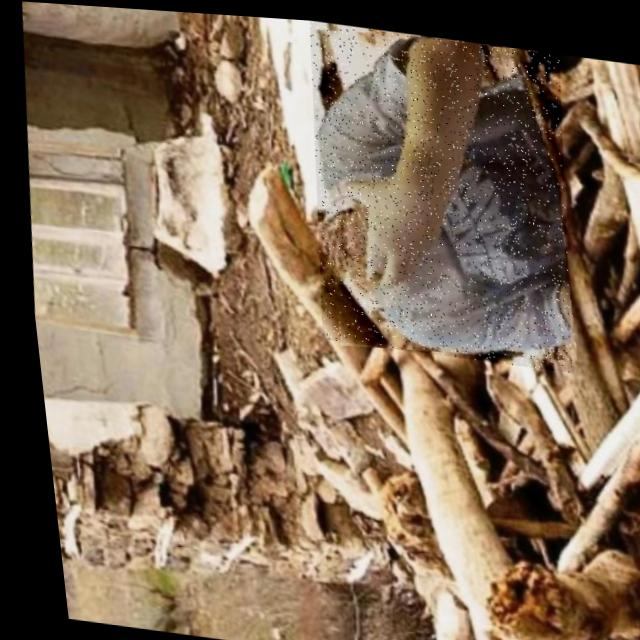Person in Rubble: (287, 15, 586, 365)
